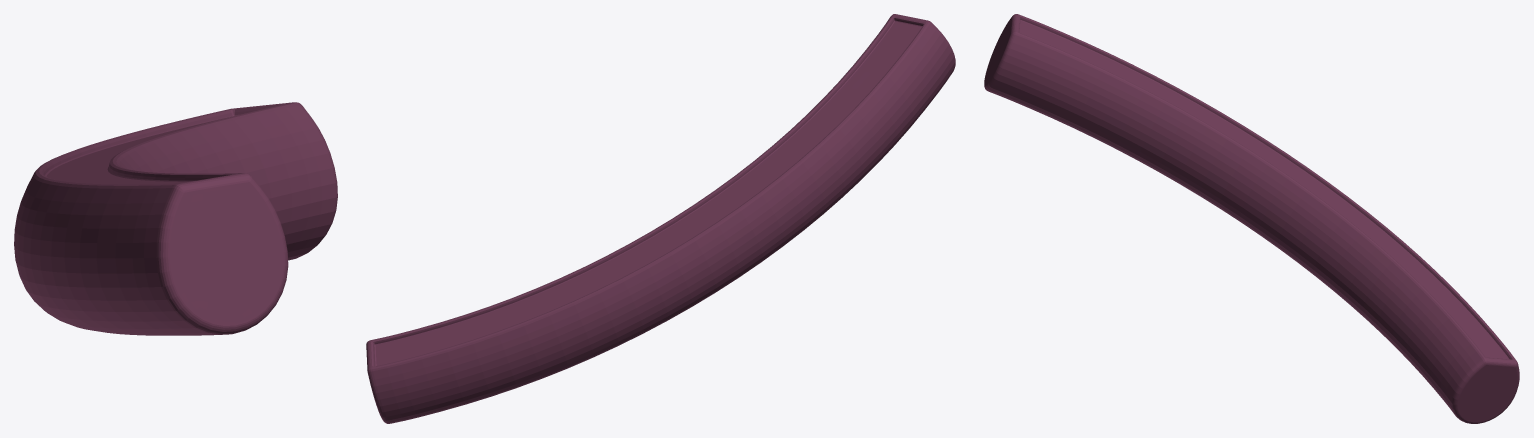
File: Lampb.fbx
3 views of the same model, side by side, from view 1: azimuth 30°, elevation 25°; view 2: azimuth 150°, elevation 25°; view 3: azimuth 270°, elevation 25° (orthographic). The views are drawn at different scales.
Visible parts, largest first — view 1: BeInspiration_69:Circle003; view 2: BeInspiration_69:Circle003; view 3: BeInspiration_69:Circle003.
Boxes of the visible parts, x1,y1,x2,y2 form: BeInspiration_69:Circle003: (14, 102, 337, 335); BeInspiration_69:Circle003: (366, 14, 955, 423); BeInspiration_69:Circle003: (984, 14, 1519, 423).
Bounding box in the file's own units: 45.28 × 37.39 × 66.24.
